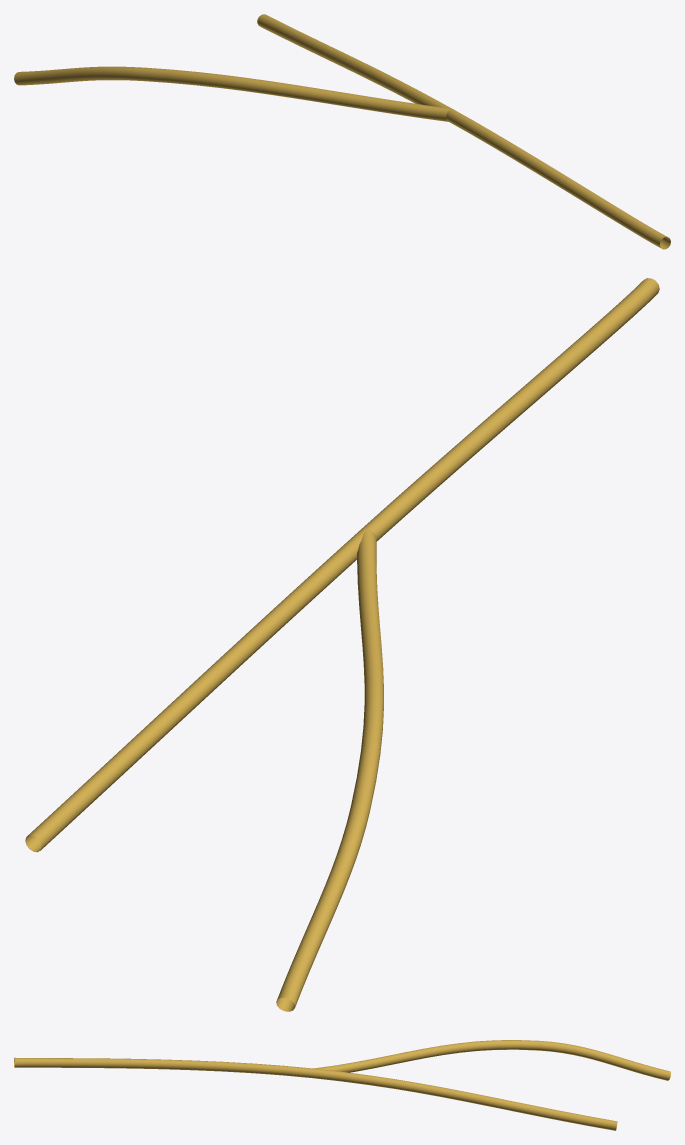
3 views of the same model, one above another, from view 1: azimuth 30°, elevation 25°; view 2: azimuth 150°, elevation 25°; view 3: azimuth 270°, elevation 25° (orthographic). The views are drawn at different scales.
Parts seen in each view (by area): view 1: 右侧尺神经指掌侧总神经; view 2: 右侧尺神经指掌侧总神经; view 3: 右侧尺神经指掌侧总神经.
Boxes of the visible parts, box(x1,y1,x2,y2) form: 右侧尺神经指掌侧总神经: box(14, 14, 670, 249); 右侧尺神经指掌侧总神经: box(25, 278, 659, 1011); 右侧尺神经指掌侧总神经: box(14, 1040, 670, 1130).
Bounding box in the file's own units: 0.0276 × 0.0152 × 0.0977.
